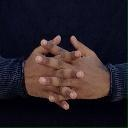hand: (35, 36, 112, 101), (23, 35, 84, 110)
